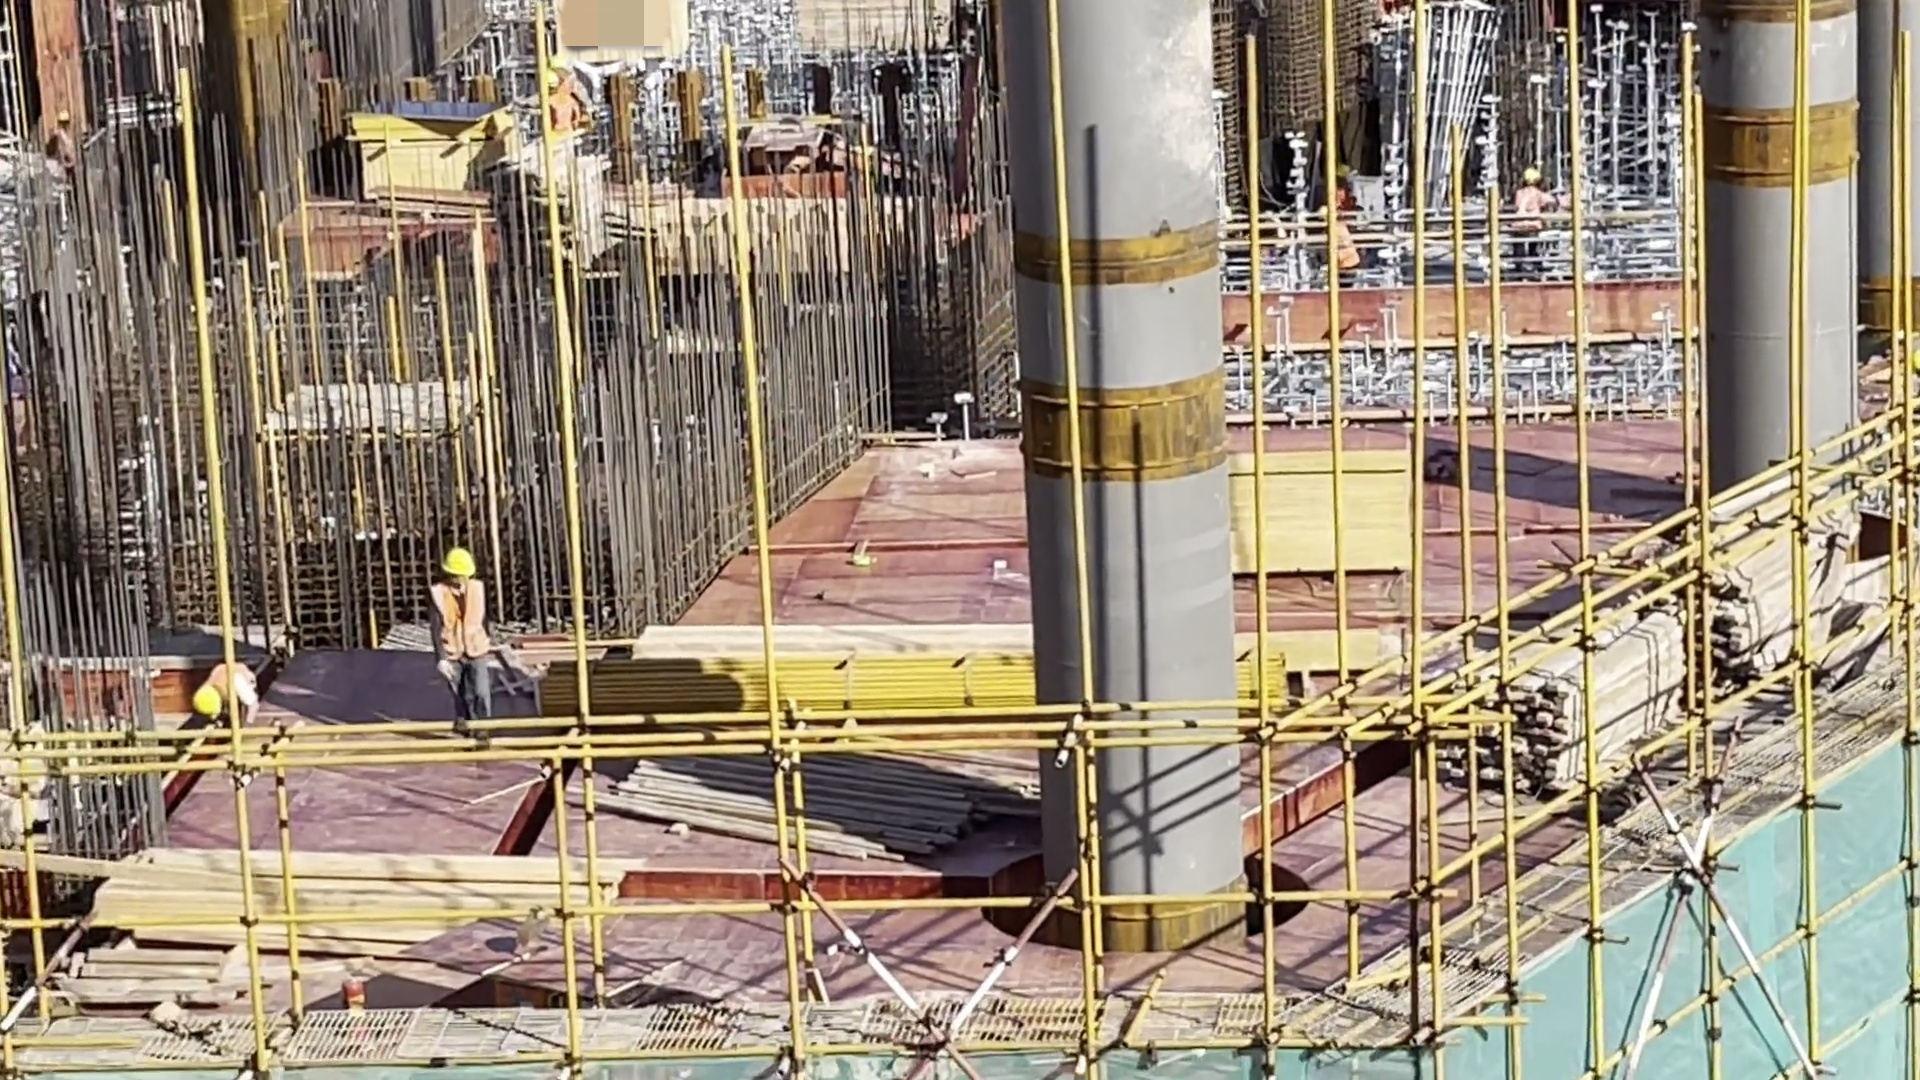helmet: (187, 680, 218, 724), (430, 550, 465, 585), (1514, 166, 1544, 191), (536, 67, 561, 92), (1331, 161, 1348, 179)
person: (423, 545, 509, 726), (1501, 165, 1563, 284), (185, 656, 262, 733), (543, 67, 573, 139)
vest: (428, 584, 484, 659)
